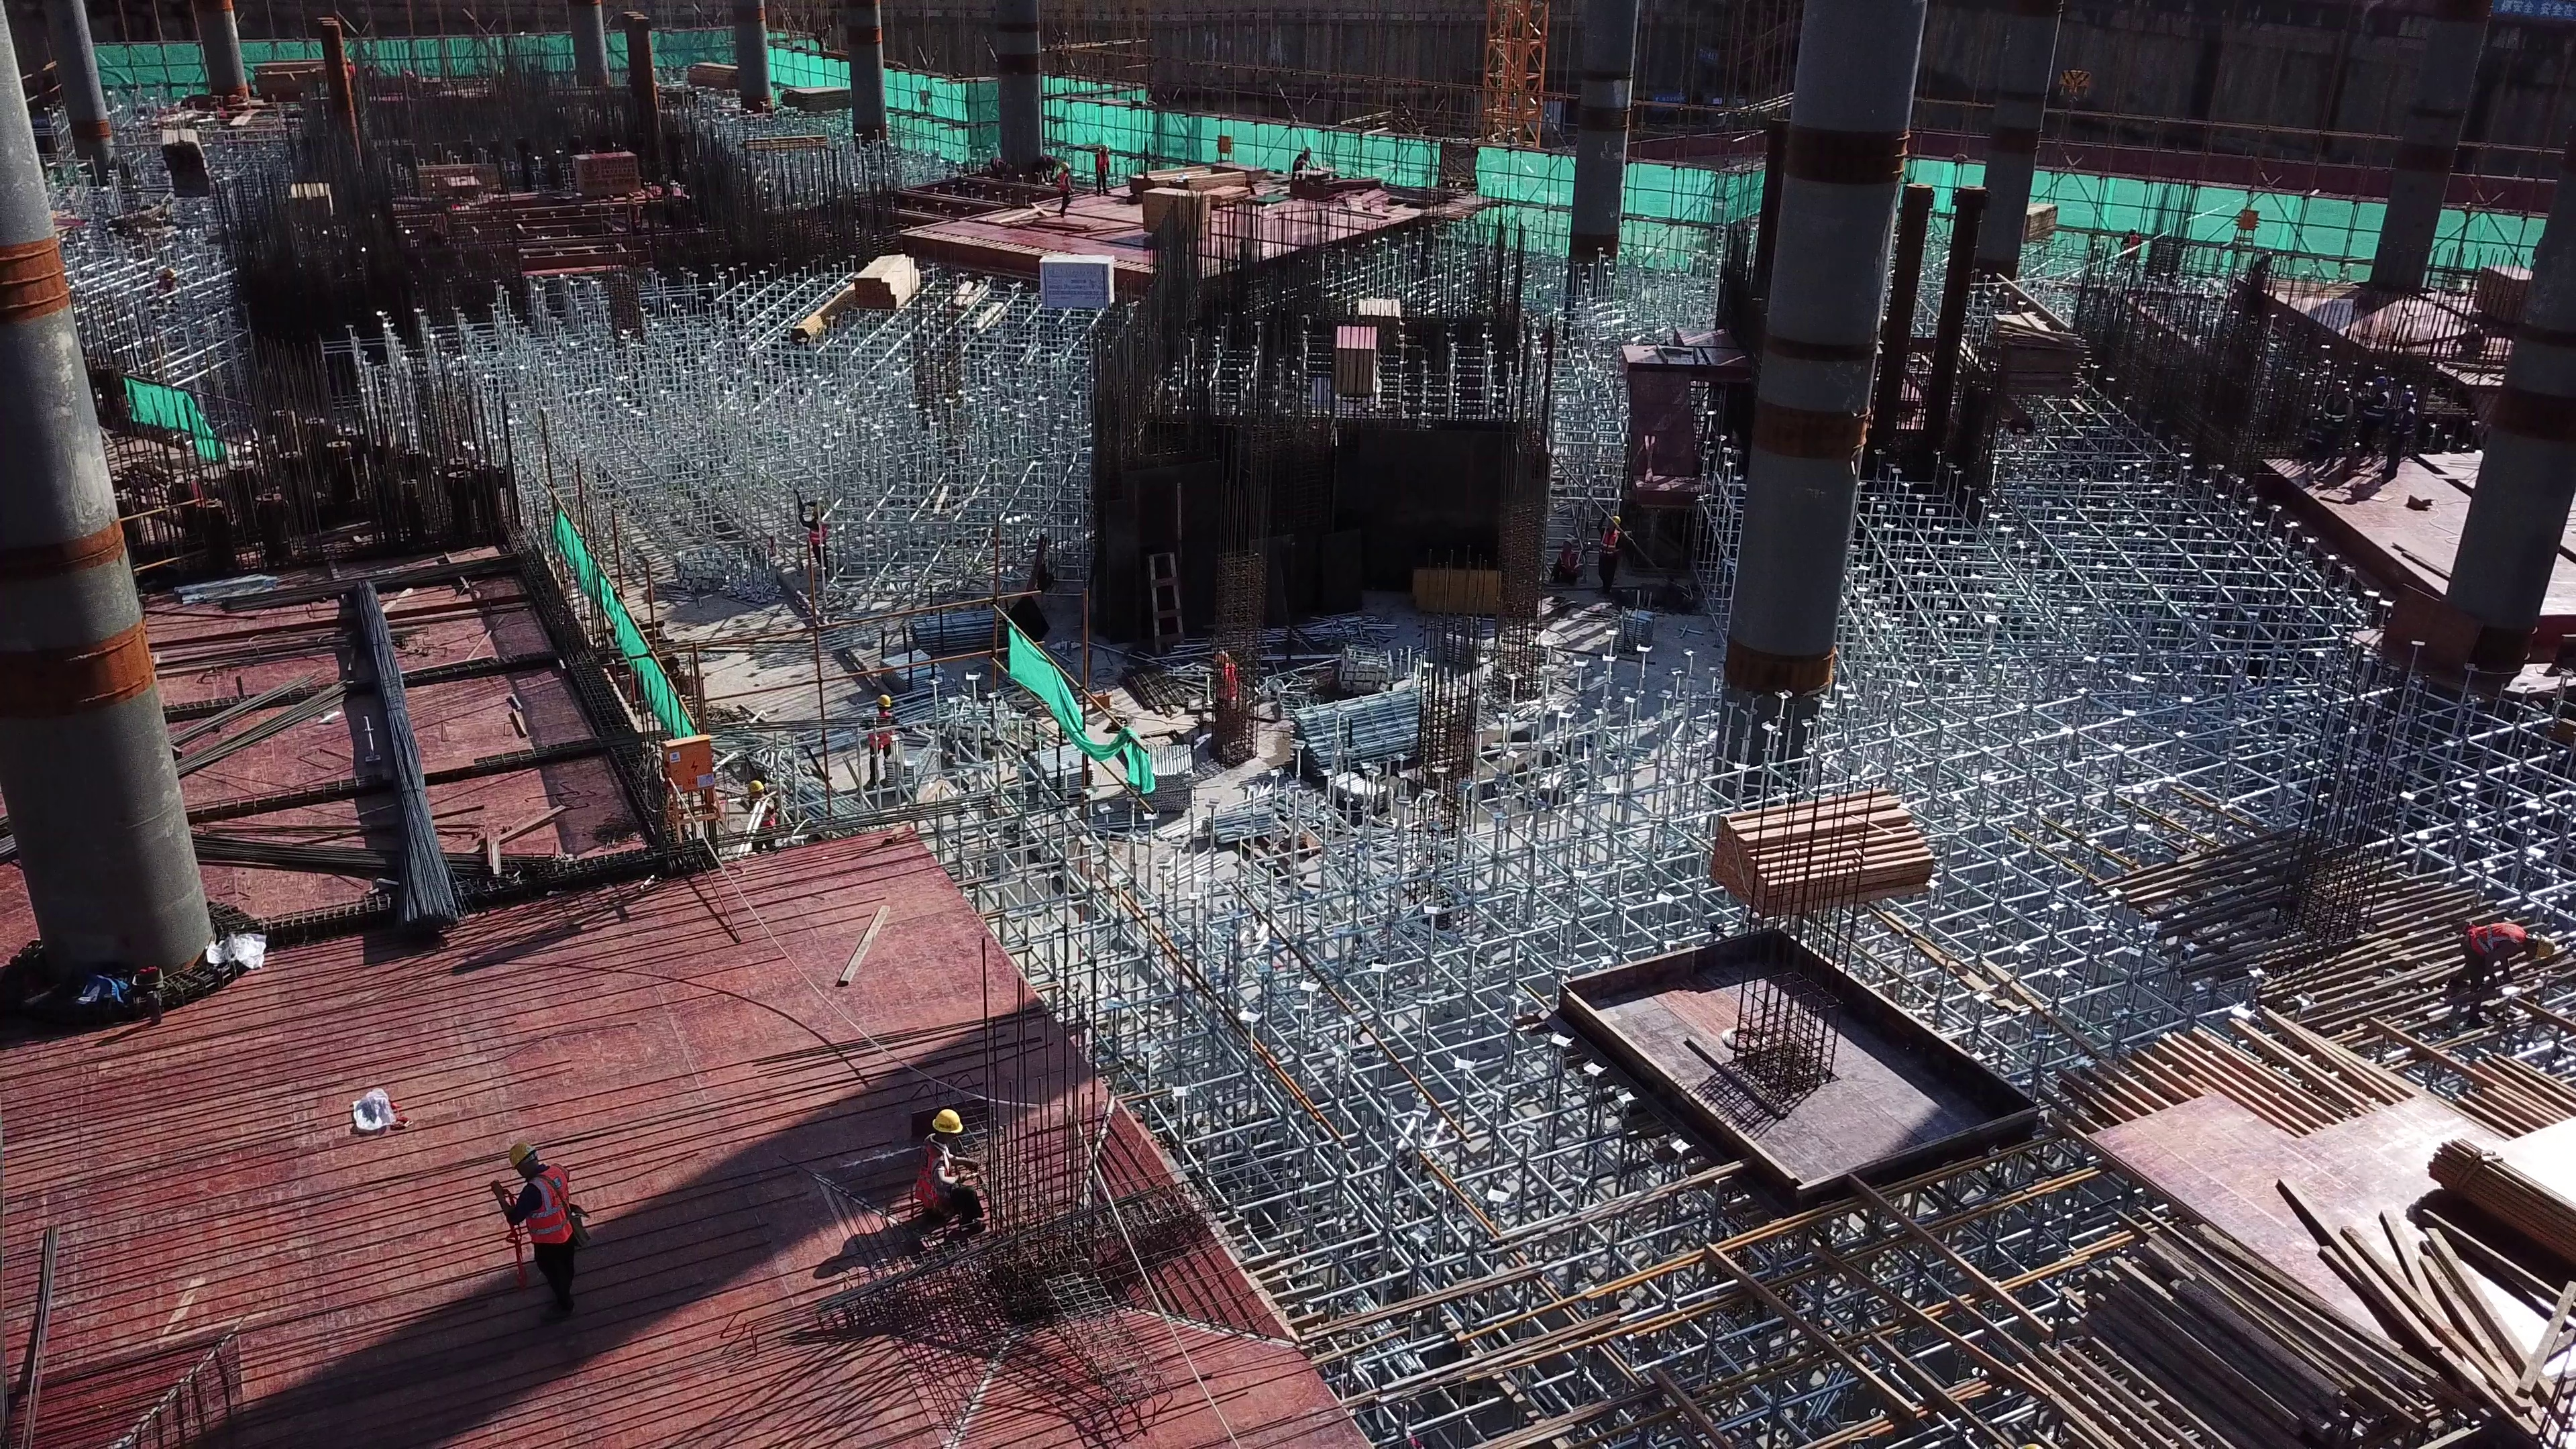board: (2110, 1082, 2446, 1313), (1335, 324, 1376, 392)
ebox: (649, 738, 729, 851), (2233, 207, 2256, 239), (1215, 133, 1232, 153)
helmet: (926, 1106, 969, 1135), (861, 714, 892, 749), (2532, 933, 2561, 960), (504, 1142, 533, 1161), (746, 778, 763, 792), (873, 695, 889, 706), (1609, 515, 1619, 523)
hook: (2056, 66, 2099, 102)
person: (480, 1140, 590, 1330), (892, 1111, 985, 1248), (2447, 921, 2555, 1039), (855, 696, 898, 794), (1207, 650, 1239, 730), (1592, 514, 1621, 596), (802, 503, 832, 574), (1050, 161, 1075, 219), (1552, 537, 1581, 582), (1092, 142, 1112, 195), (1289, 148, 1308, 191)
rebar: (345, 571, 466, 945)
scaffold: (1296, 691, 1427, 761), (1130, 741, 1195, 812), (1210, 787, 1297, 839), (910, 616, 1002, 653), (877, 652, 944, 694), (1032, 744, 1084, 788), (1618, 607, 1652, 649)
vest: (517, 1176, 578, 1248), (2459, 922, 2522, 967), (915, 1141, 953, 1209), (1596, 527, 1618, 554), (1556, 553, 1578, 574), (1057, 172, 1072, 194), (1092, 154, 1110, 172)
wood: (1693, 797, 1935, 890), (1136, 184, 1214, 246), (1136, 166, 1251, 199), (860, 258, 916, 303)
